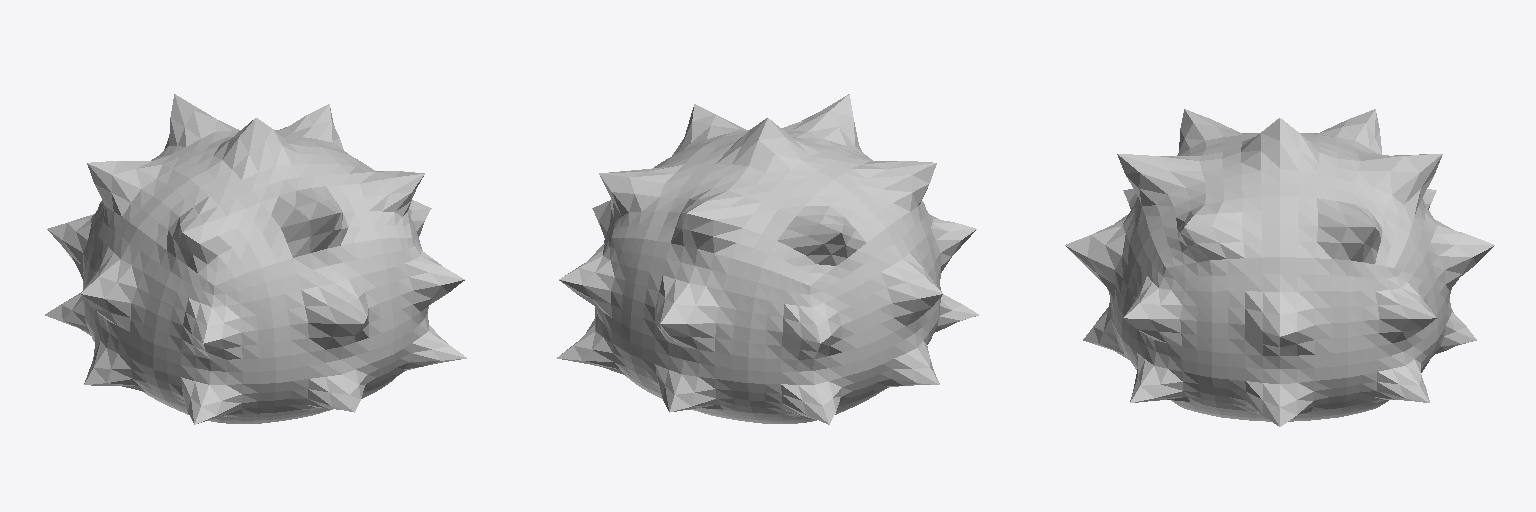
Rendered from slime_spike.obj.
The picture shows the model from 3 angles: view 1: azimuth 30°, elevation 25°; view 2: azimuth 150°, elevation 25°; view 3: azimuth 270°, elevation 25°; orthographic projection.
Parts seen in each view (by area): view 1: Cube; view 2: Cube; view 3: Cube.
Boxes of the visible parts, <box> form: Cube: <box>45,94,466,424</box>; Cube: <box>557,94,978,424</box>; Cube: <box>1065,109,1494,426</box>.
Size of the model in its own units: 1.71 by 1.29 by 1.82.